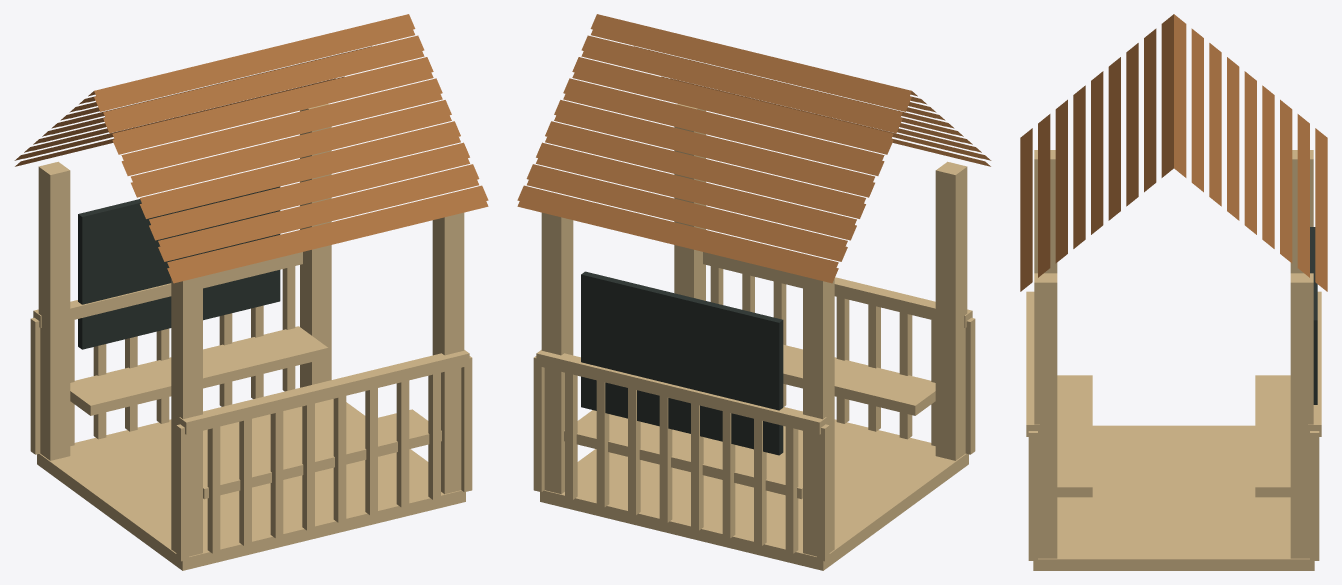
3 views of the same model, side by side, from view 1: azimuth 30°, elevation 25°; view 2: azimuth 150°, elevation 25°; view 3: azimuth 270°, elevation 25° (orthographic). The views are drawn at different scales.
Parts seen in each view (by area): view 1: SW-Y308; view 2: SW-Y308; view 3: SW-Y308.
Part boxes in pixels (x1,y1,x2,y2): SW-Y308: (14,14,488,570); SW-Y308: (517,14,991,570); SW-Y308: (1020,14,1327,570).
Size of the model in its own units: 1.6 by 2.09 by 1.4.
